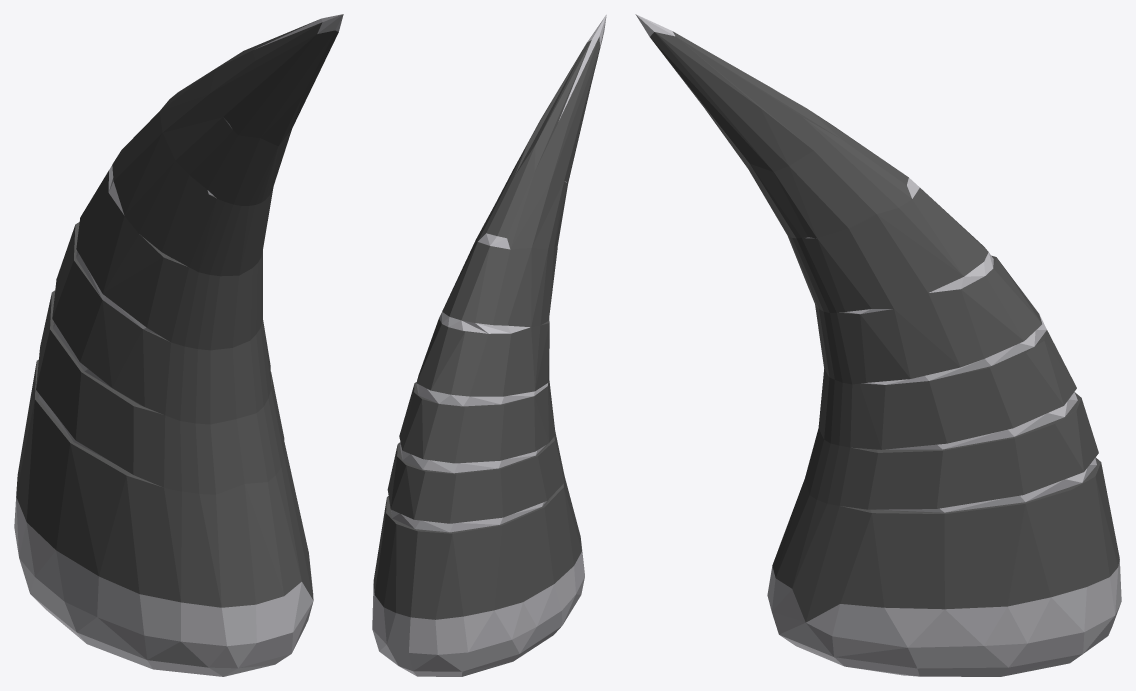
Rendered from Ingredient_fang_1.fbx.
3 renders of one model, left to right at view 1: azimuth 30°, elevation 25°; view 2: azimuth 150°, elevation 25°; view 3: azimuth 270°, elevation 25°, orthographic. The views are drawn at different scales.
Parts seen in each view (by area): view 1: Cube.003; view 2: Cube.003; view 3: Cube.003.
Boxes of the visible parts, x1,y1,x2,y2 form: Cube.003: (14, 14, 343, 676); Cube.003: (372, 14, 606, 676); Cube.003: (635, 14, 1121, 676).
Bounding box in the file's own units: 9.97 × 33.28 × 22.74.
